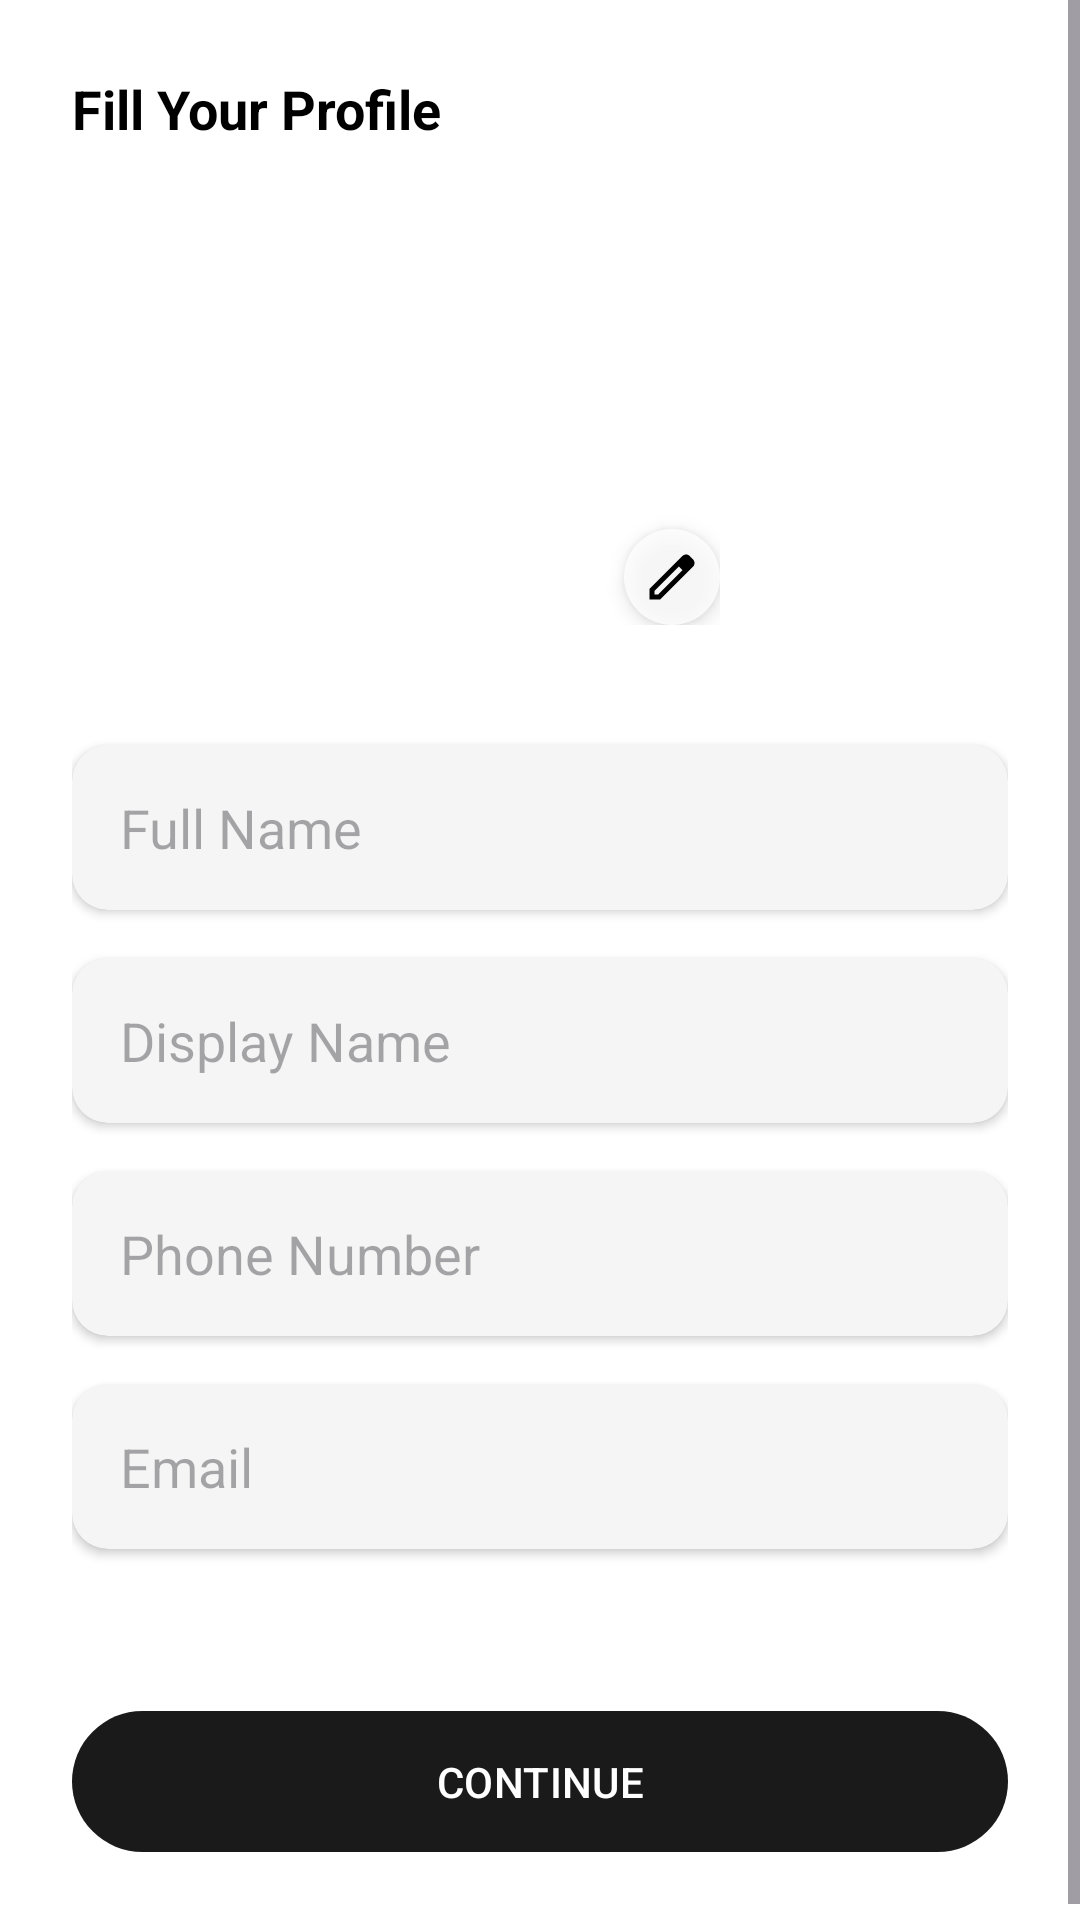

Icons on this 1080w x 1920h Android screen, each with the point to tap as [x,y]:
edit: [672,589]
